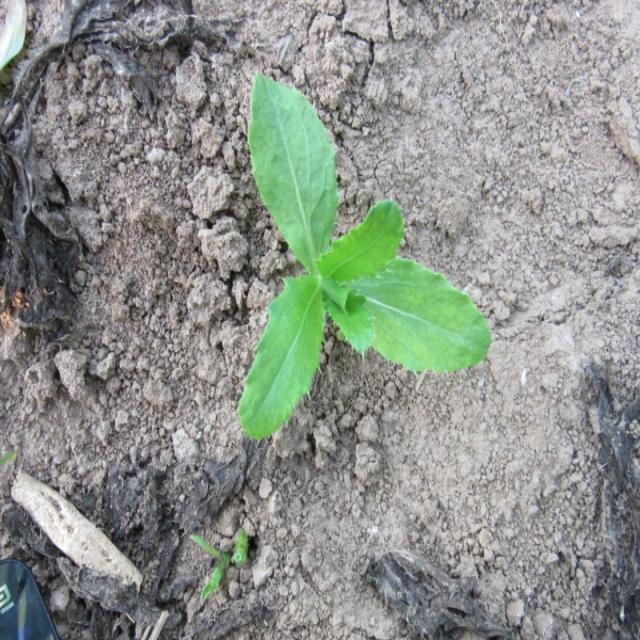cs: (237, 67, 493, 444)
